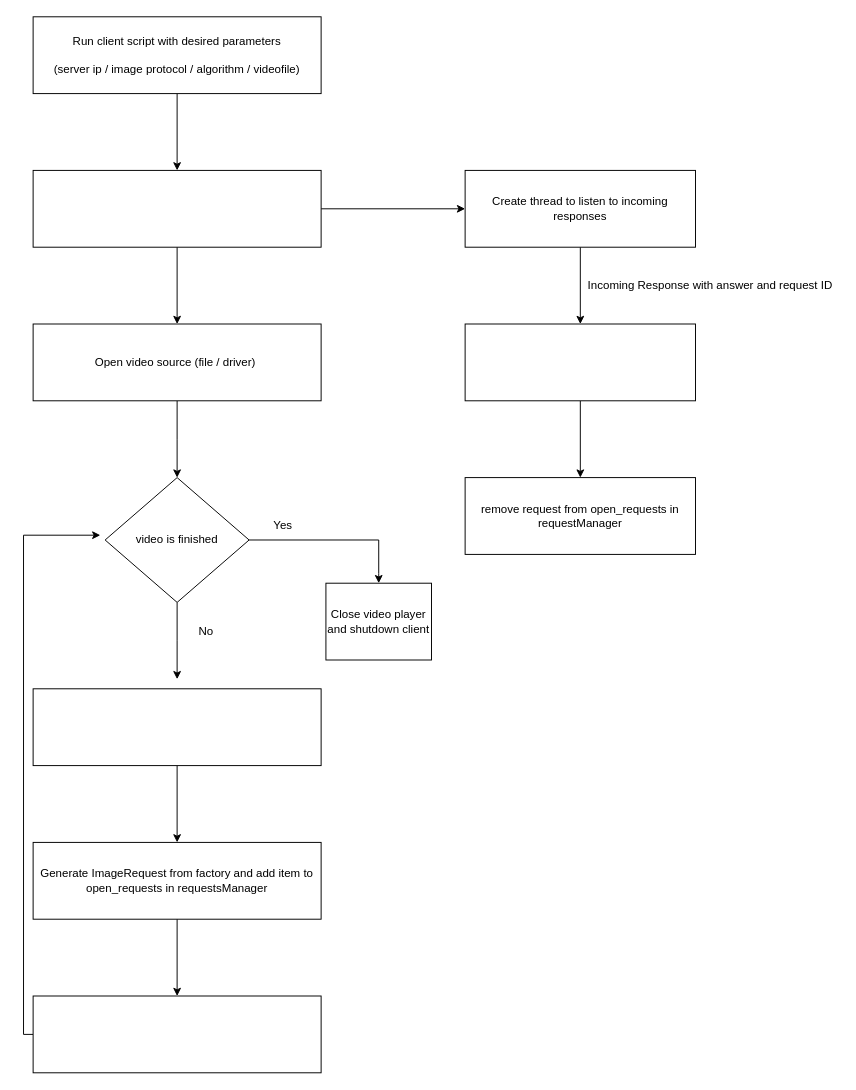
Some shapes in this 856 by 1090 pixel diagram are drawn without their labels. The shapes that lost their labels are listed below. From the top down, each one's centre as x and y in pixels, then its label:
[176,208]: validate parameter and initialize resources
[580,362]: display response on video player's output
[176,727]: Grab new frame from video source
[176,1034]: Publish ImageRequest to server
